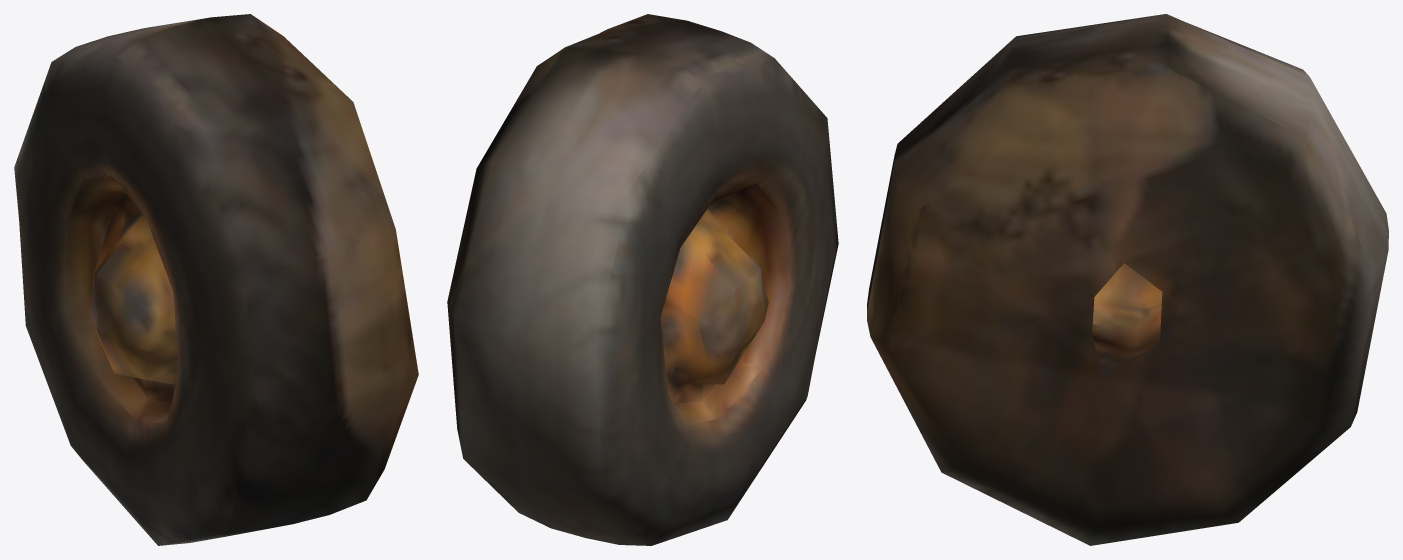
The model's file is wheel_01.glb.
3 views of the same model, side by side, from view 1: azimuth 30°, elevation 25°; view 2: azimuth 150°, elevation 25°; view 3: azimuth 270°, elevation 25° (orthographic).
Parts seen in each view (by area): view 1: Mesh_0; view 2: Mesh_0; view 3: Mesh_0.
Part boxes in pixels (x1,y1,x2,y2): Mesh_0: [14, 14, 418, 545]; Mesh_0: [447, 14, 838, 545]; Mesh_0: [867, 14, 1388, 545].
Bounding box in the file's own units: 0.1455 × 0.3013 × 0.294.
1 material, 1 textured.
